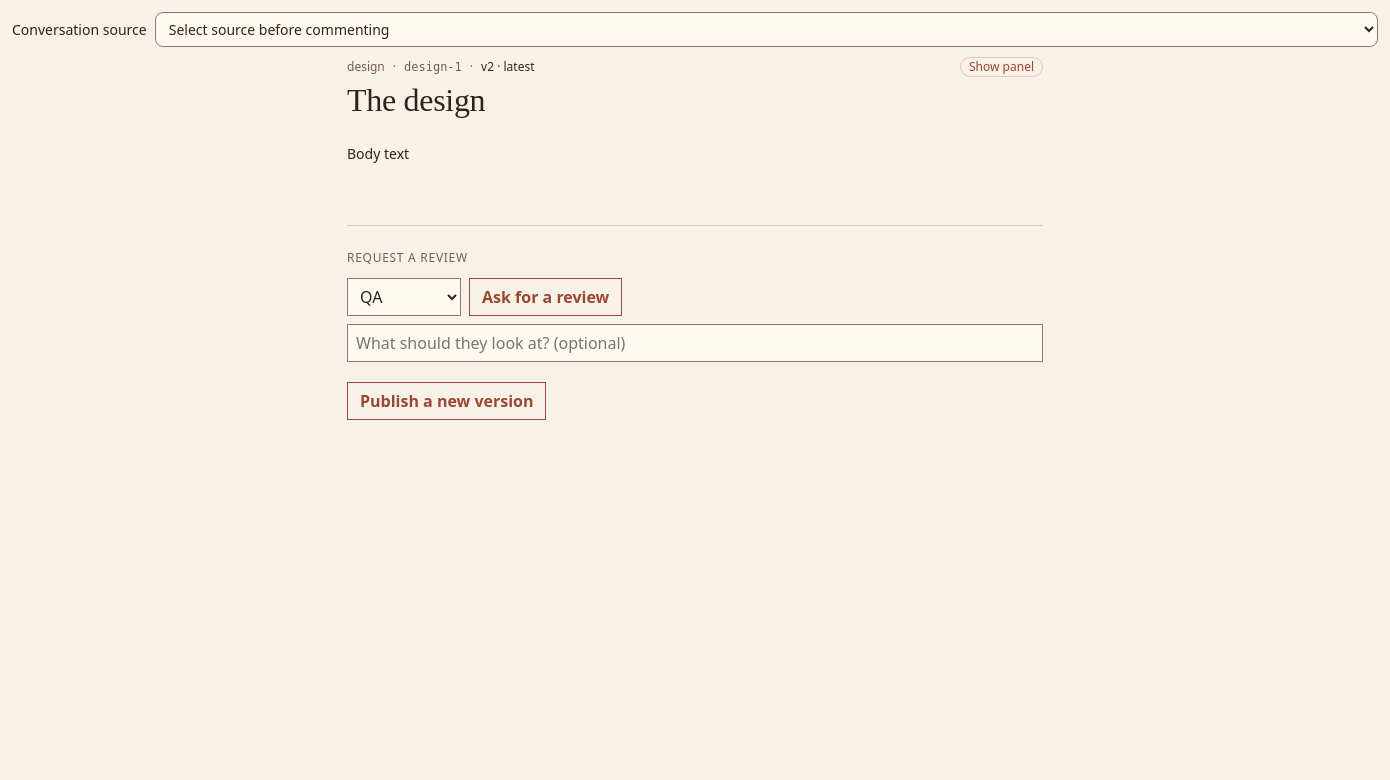
Scenario: DocView › with several linked conversations the reader picks the source; no review opens before that
This screenshot has width=1390, height=780.
Expected: the text "Design review" is not shown
Select "Other work · s-2" in the dropdown labelled "Conversation source" at (766,30), box [155,12,1378,47]
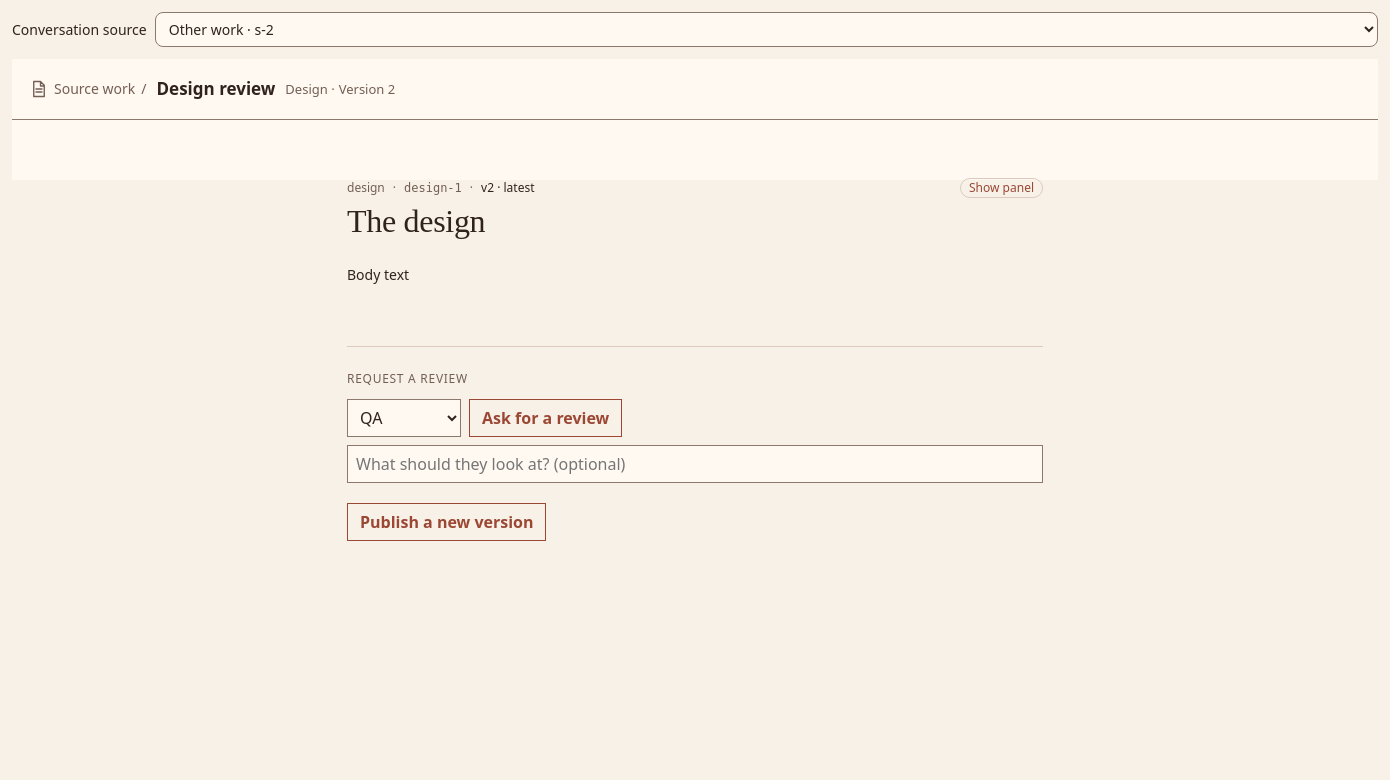
Expected: the text "Design review" is shown, [156,77,275,101]
